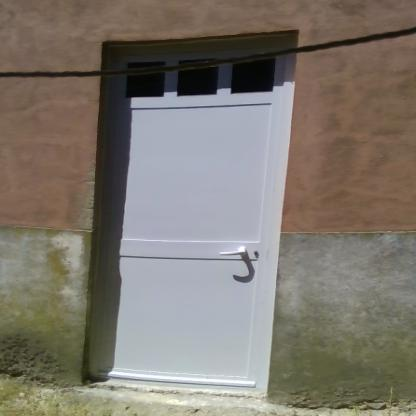door: (104, 47, 266, 396)
lever: (216, 249, 252, 258)
